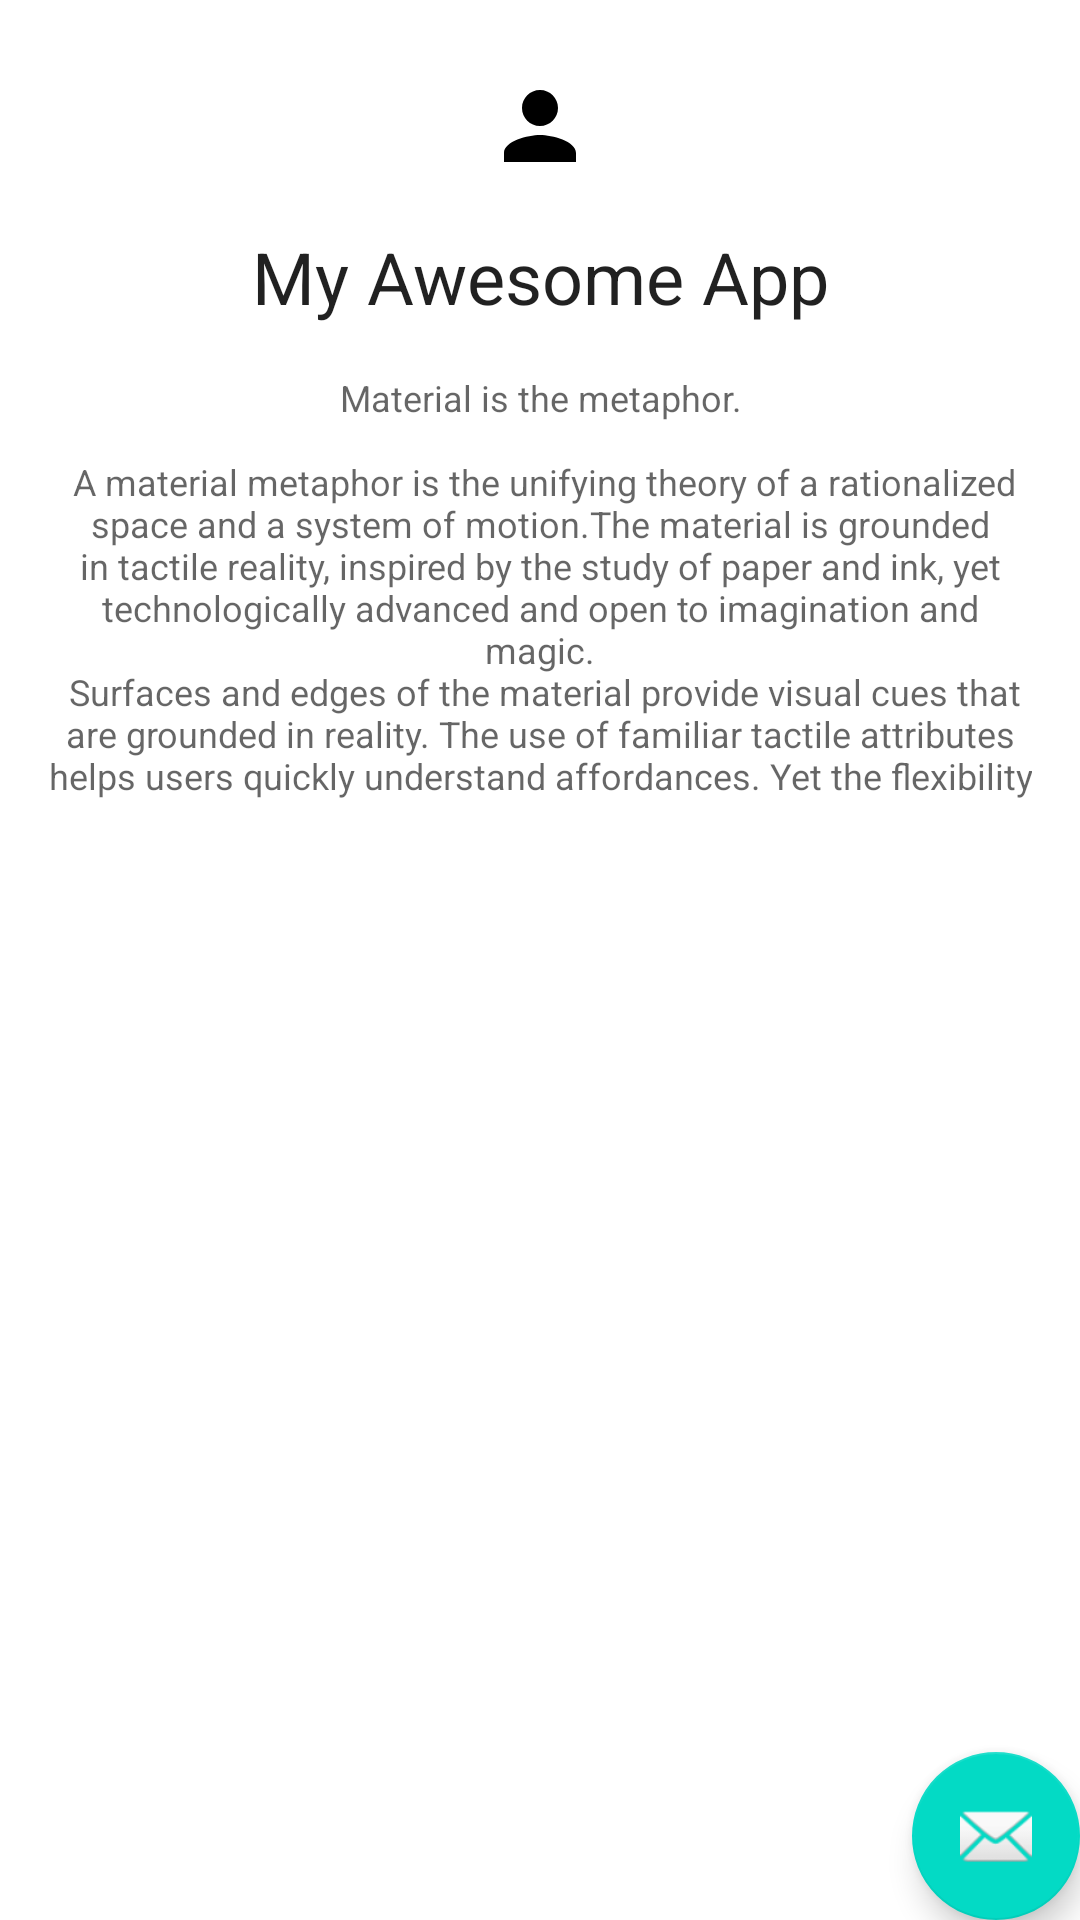

Where to tap for icons on this 1080 × 1920 app screen, as (x,y):
email: (996,1836)
person: (540,126)
